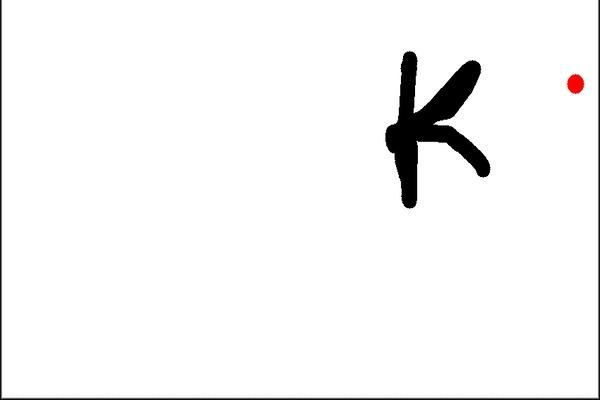K: (382, 41, 500, 212)
